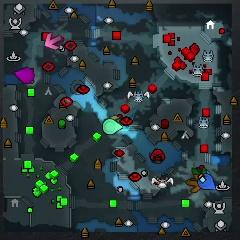p1: (197, 175, 217, 191)
p2: (103, 119, 123, 136)
p3: (14, 67, 36, 83)
x1: (44, 31, 62, 52)
x2: (108, 114, 122, 124)
x4: (190, 166, 207, 177)
x5: (187, 176, 203, 195)
